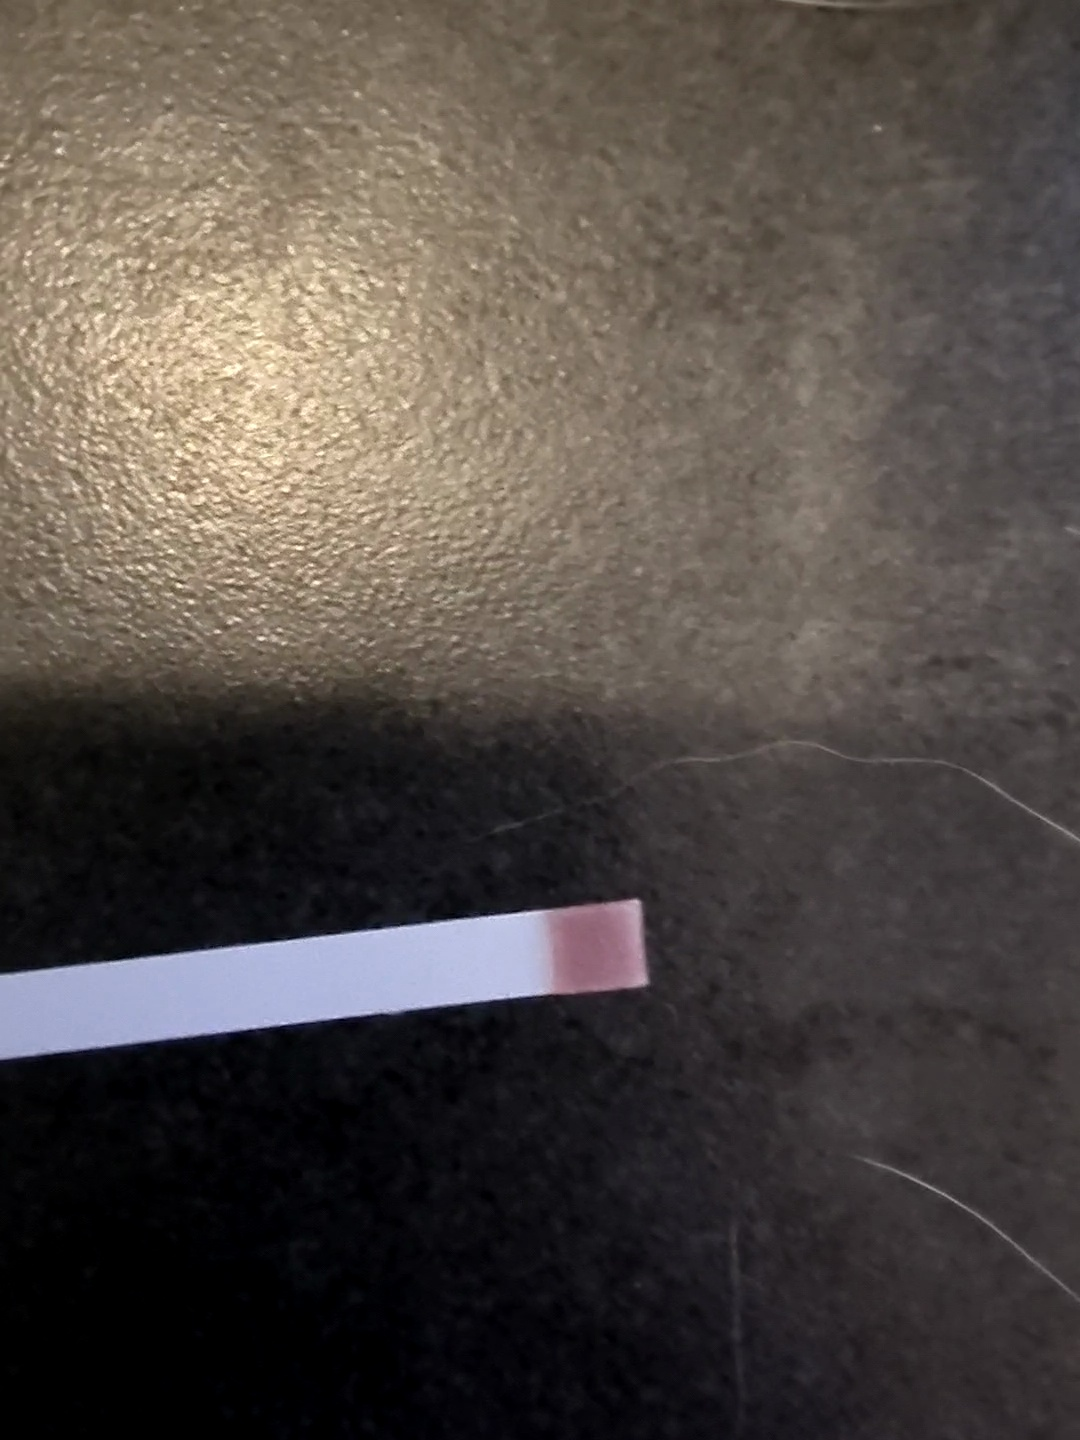keto-tip: (535, 893, 653, 999)
